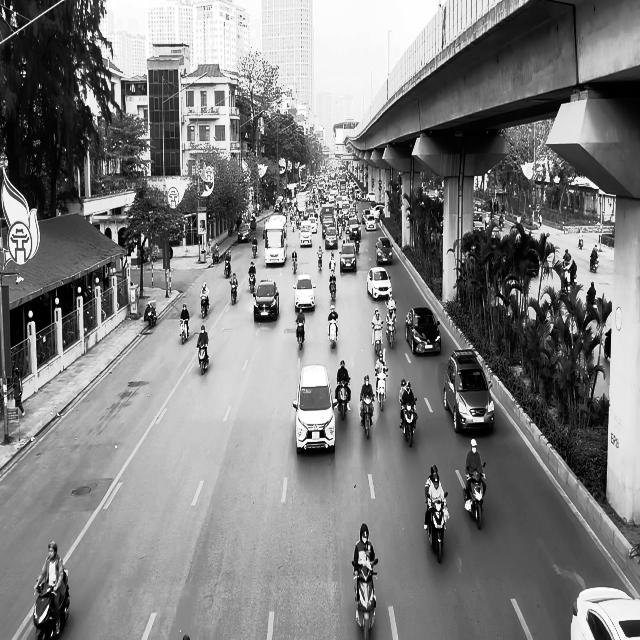bus: (473, 199, 483, 222)
car: (443, 349, 494, 433), (292, 364, 338, 454), (570, 586, 640, 639), (405, 306, 441, 355), (253, 278, 279, 322), (293, 273, 316, 312), (366, 267, 392, 300), (339, 244, 357, 274), (375, 237, 393, 264), (237, 223, 251, 242)
motorbike: (33, 569, 70, 639), (352, 558, 378, 638), (424, 492, 449, 563), (463, 462, 486, 529), (400, 398, 417, 447), (359, 395, 374, 439), (335, 379, 350, 420), (375, 369, 388, 411), (197, 342, 209, 374), (327, 314, 338, 348), (145, 301, 157, 327), (386, 318, 396, 348), (296, 320, 305, 350), (180, 317, 190, 344), (200, 295, 209, 318), (589, 254, 599, 273), (229, 282, 237, 305), (329, 275, 336, 300), (248, 273, 255, 293), (224, 258, 231, 278), (317, 251, 323, 271), (292, 256, 297, 273), (252, 243, 257, 258)
